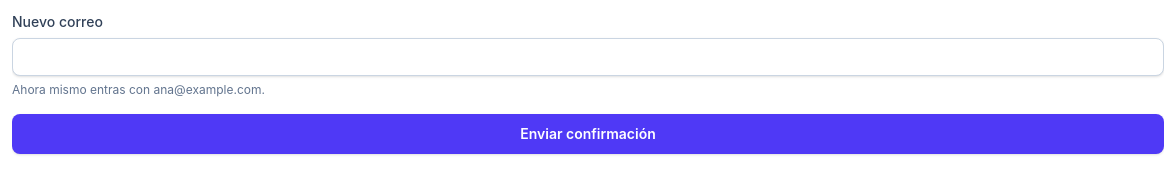
Test: ChangeEmailSection › valida el formato antes de llamar a la API
This screenshot has width=1176, height=176.
Type "no-es-un-correo" into the field labelled "Nuevo correo" at x=588, y=57, box [12,38,1164,76]
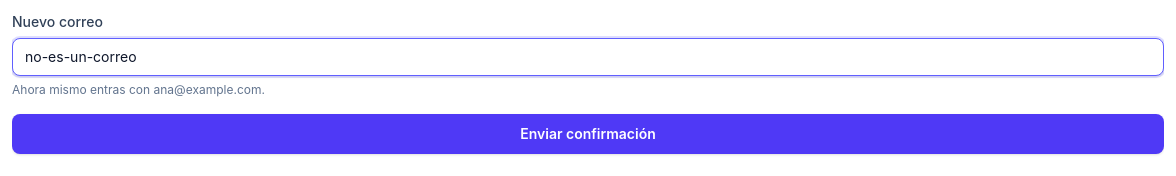
Click the button "Enviar confirmación" at x=588, y=134, box [12,114,1164,154]
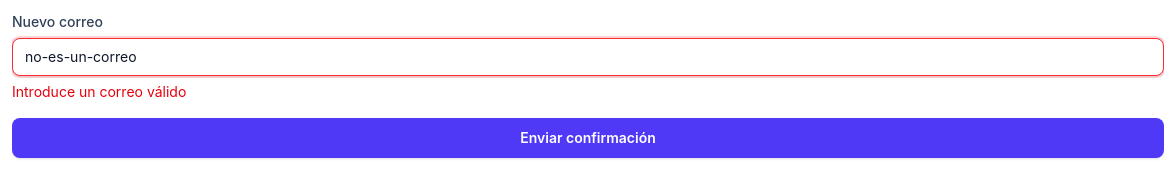
Expected: the text "Introduce un correo válido" is shown, [12,83,186,100]
